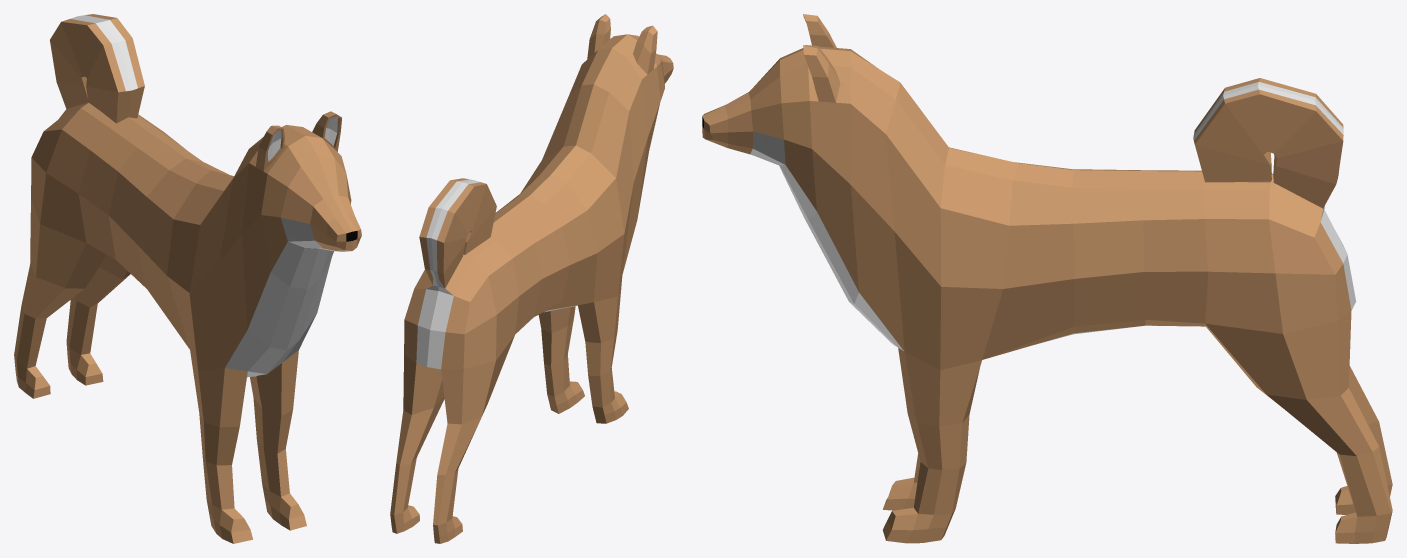
Rendered from Dog-transformed.glb.
3 renders of one model, left to right at view 1: azimuth 30°, elevation 25°; view 2: azimuth 150°, elevation 25°; view 3: azimuth 270°, elevation 25°, orthographic. The views are drawn at different scales.
Visible parts, largest first — view 1: 19dogFinal; view 2: 19dogFinal; view 3: 19dogFinal.
Part boxes in pixels (left/top/right/bottom): 19dogFinal: left=14, top=14, right=361, bottom=543; 19dogFinal: left=390, top=14, right=673, bottom=543; 19dogFinal: left=702, top=14, right=1392, bottom=543.
Size of the model in its own units: 0.2577 by 0.9795 by 1.24.
1 material, 1 textured.
